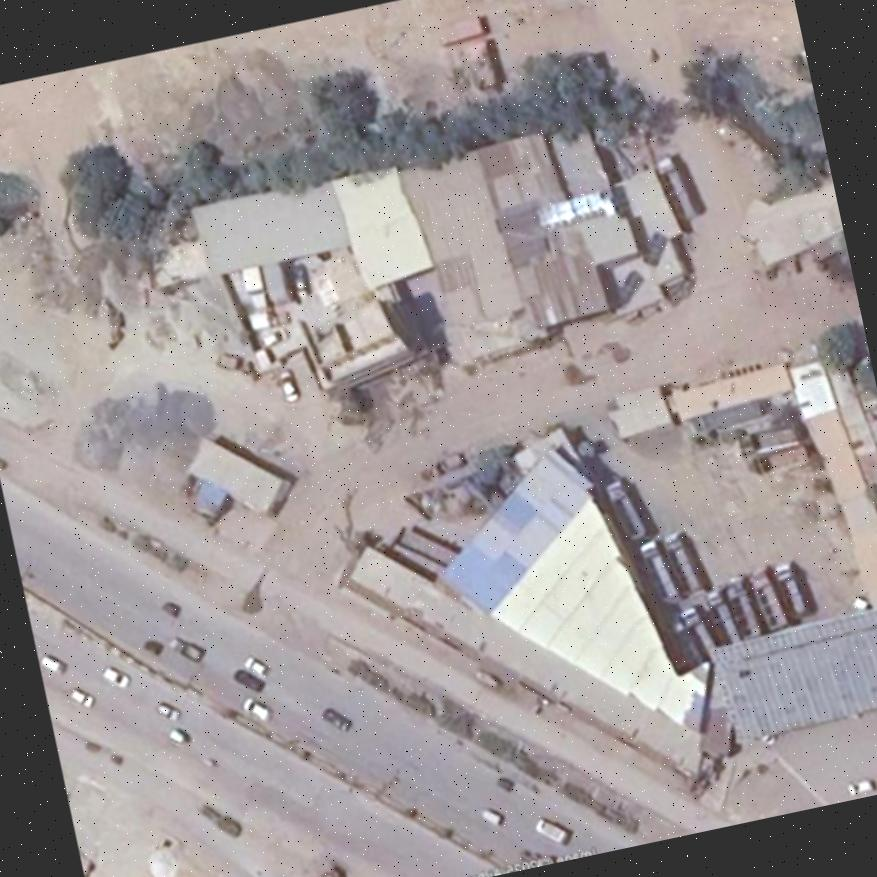Solarpanel: (612, 270, 642, 303), (641, 229, 666, 265)
